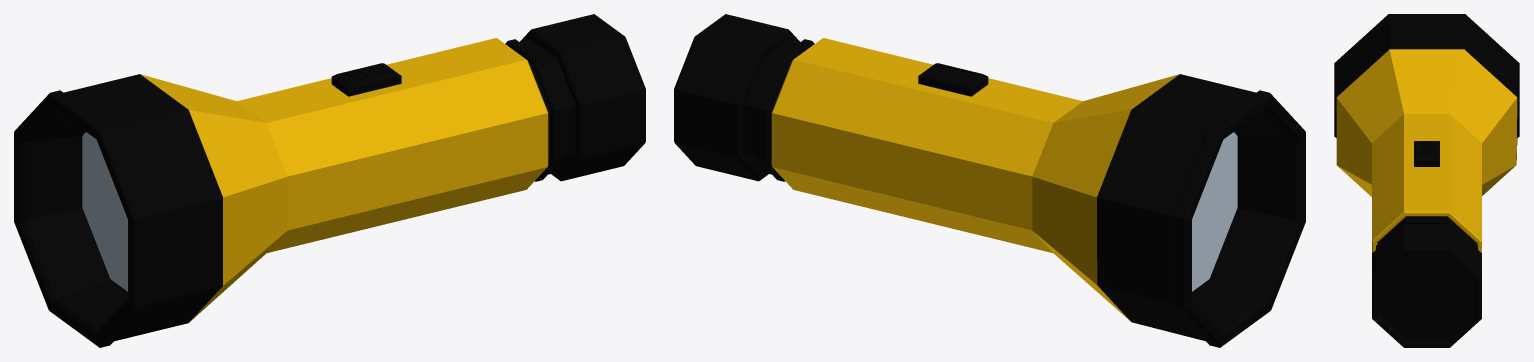
Rendered from flashlight.fbx.
3 renders of one model, left to right at view 1: azimuth 30°, elevation 25°; view 2: azimuth 150°, elevation 25°; view 3: azimuth 270°, elevation 25°, orthographic. The views are drawn at different scales.
Parts seen in each view (by area): view 1: Cylinder.002; view 2: Cylinder.002; view 3: Cylinder.002.
Part boxes in pixels (bbox=[...]): Cylinder.002: bbox=[14, 14, 645, 347]; Cylinder.002: bbox=[674, 14, 1305, 347]; Cylinder.002: bbox=[1334, 14, 1519, 347].
Size of the model in its own units: 798 by 310 by 310.
